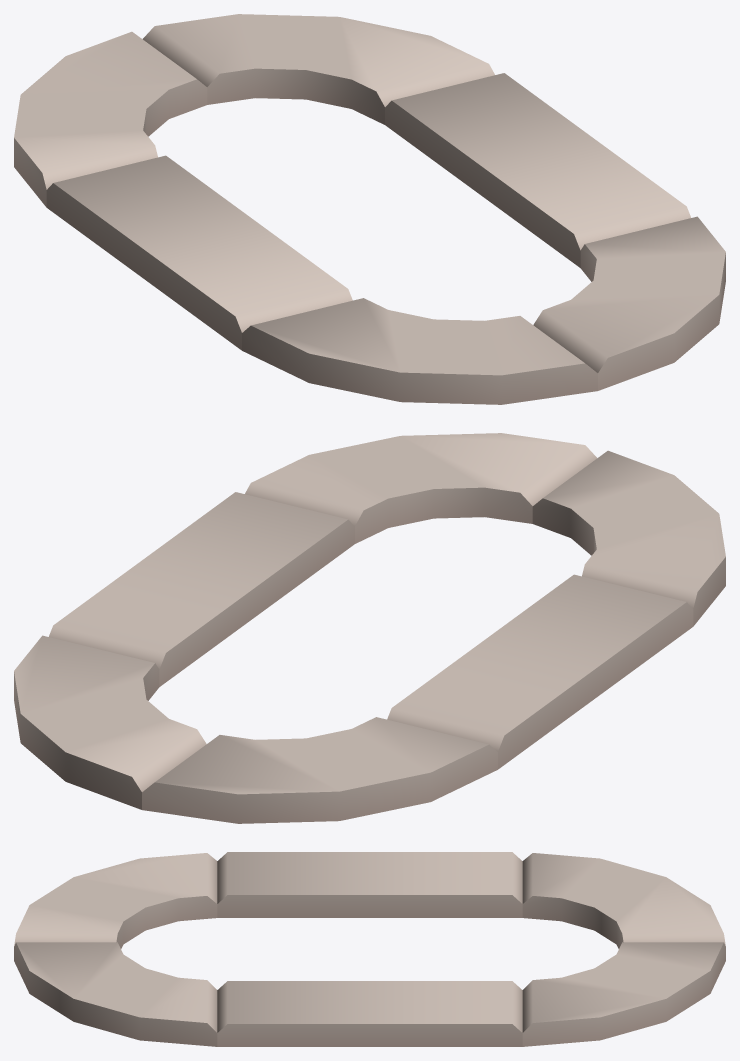
Rendered from toy-train-track_0.glb.
3 views of the same model, one above another, from view 1: azimuth 30°, elevation 25°; view 2: azimuth 150°, elevation 25°; view 3: azimuth 270°, elevation 25° (orthographic). The views are drawn at different scales.
Visible parts, largest first — view 1: toy-train-track; view 2: toy-train-track; view 3: toy-train-track.
Part boxes in pixels (left/top/right/bottom): toy-train-track: left=14, top=14, right=725, bottom=404; toy-train-track: left=14, top=433, right=725, bottom=823; toy-train-track: left=14, top=852, right=725, bottom=1046.
Size of the model in its own units: 0.4 by 0.025 by 0.7.
